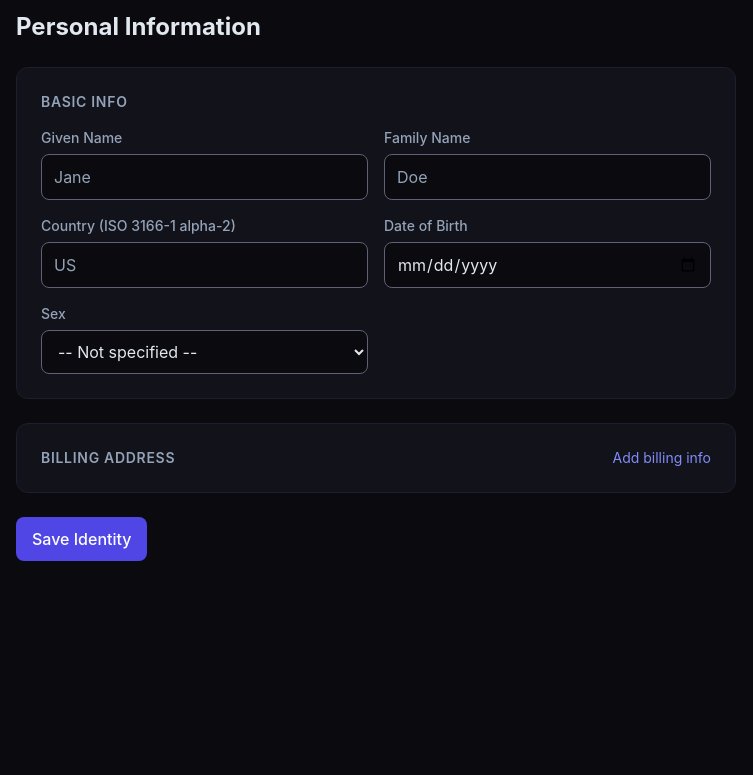
IdentityView › hides billing toggle text changes
Click the button "Add billing info" at [662, 458], box [612,448,711,468]
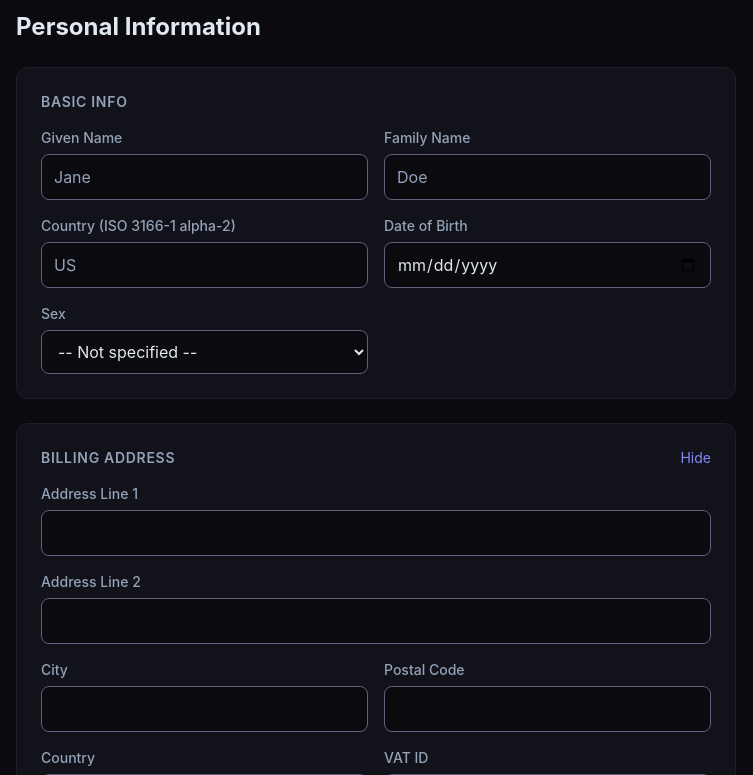
Now the button "Hide" is shown, box [680,448,711,468]
